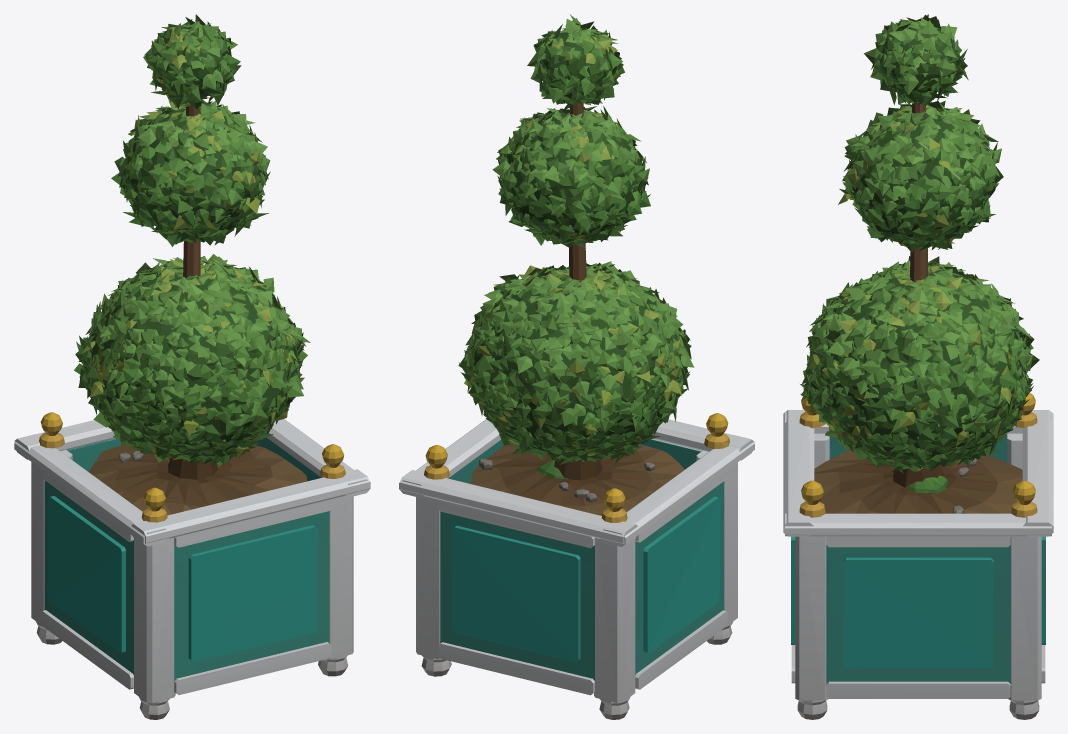
The model's file is topiary-tree-in-planter.glb.
3 renders of one model, left to right at view 1: azimuth 30°, elevation 25°; view 2: azimuth 150°, elevation 25°; view 3: azimuth 270°, elevation 25°, orthographic. The views are drawn at different scales.
Parts seen in each view (by area): view 1: topiary_tree_in_planter; view 2: topiary_tree_in_planter; view 3: topiary_tree_in_planter.
Part boxes in pixels (x1,y1,x2,y2): topiary_tree_in_planter: (14,14,370,719); topiary_tree_in_planter: (399,14,754,719); topiary_tree_in_planter: (783,14,1053,719).
Size of the model in its own units: 0.7899 by 2.11 by 0.7899.
